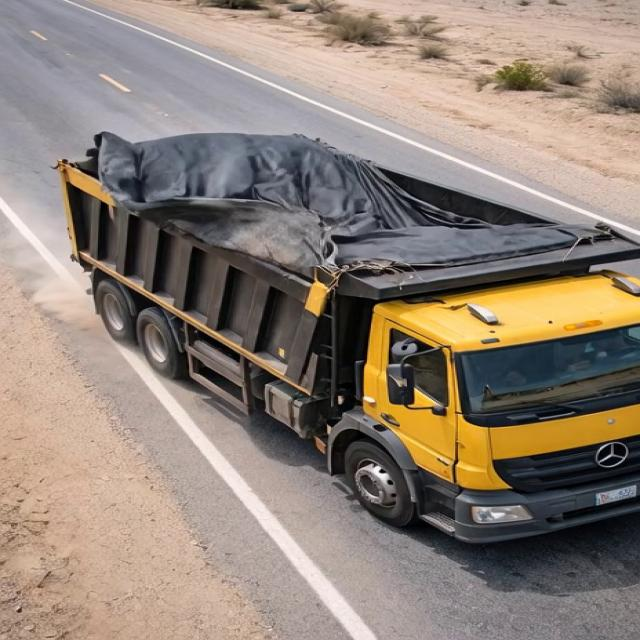trailer: (59, 138, 638, 286)
truck: (25, 100, 640, 540)
